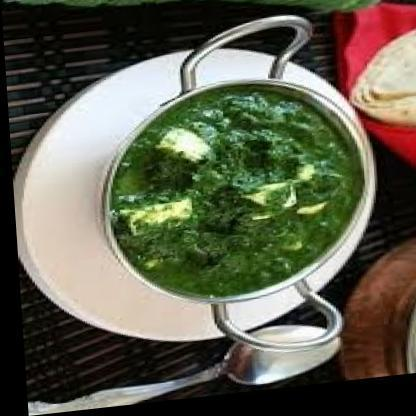palak_paneer: (99, 80, 365, 311)
